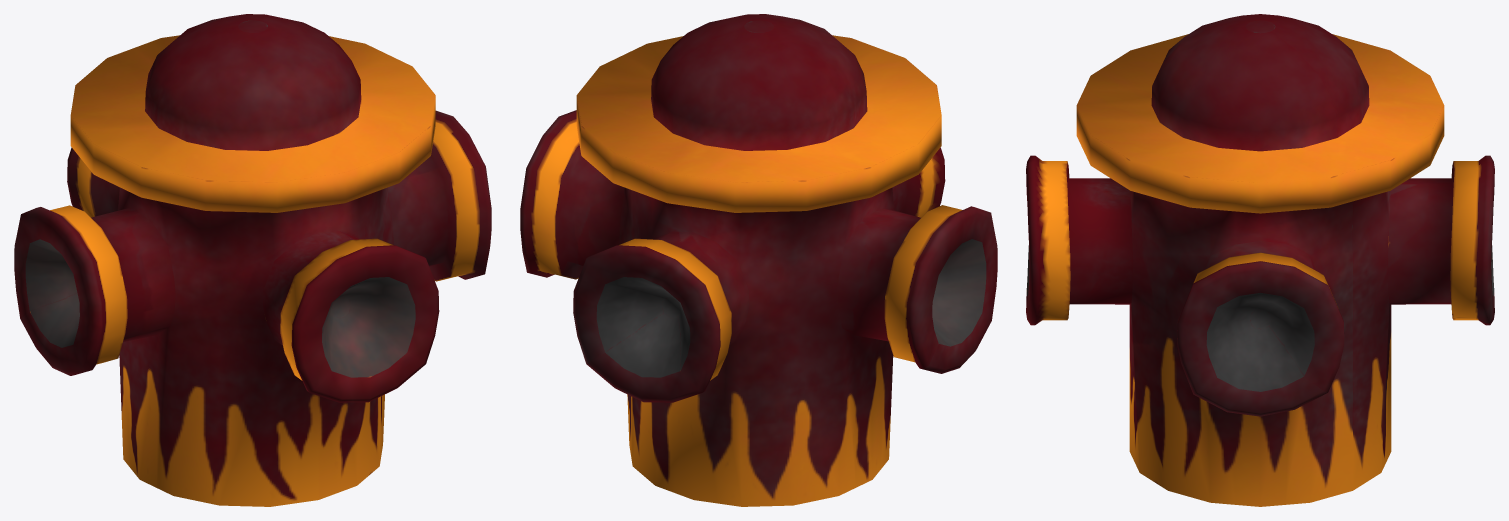
The model's file is FireSpin.fbx.
3 renders of one model, left to right at view 1: azimuth 30°, elevation 25°; view 2: azimuth 150°, elevation 25°; view 3: azimuth 270°, elevation 25°, orthographic.
Parts seen in each view (by area): view 1: Cylinder; view 2: Cylinder; view 3: Cylinder.
Boxes of the visible parts, bbox=[...] form: Cylinder: bbox=[14, 14, 491, 506]; Cylinder: bbox=[520, 14, 997, 506]; Cylinder: bbox=[1026, 14, 1494, 506].
Size of the model in its own units: 207 by 207 by 207.
